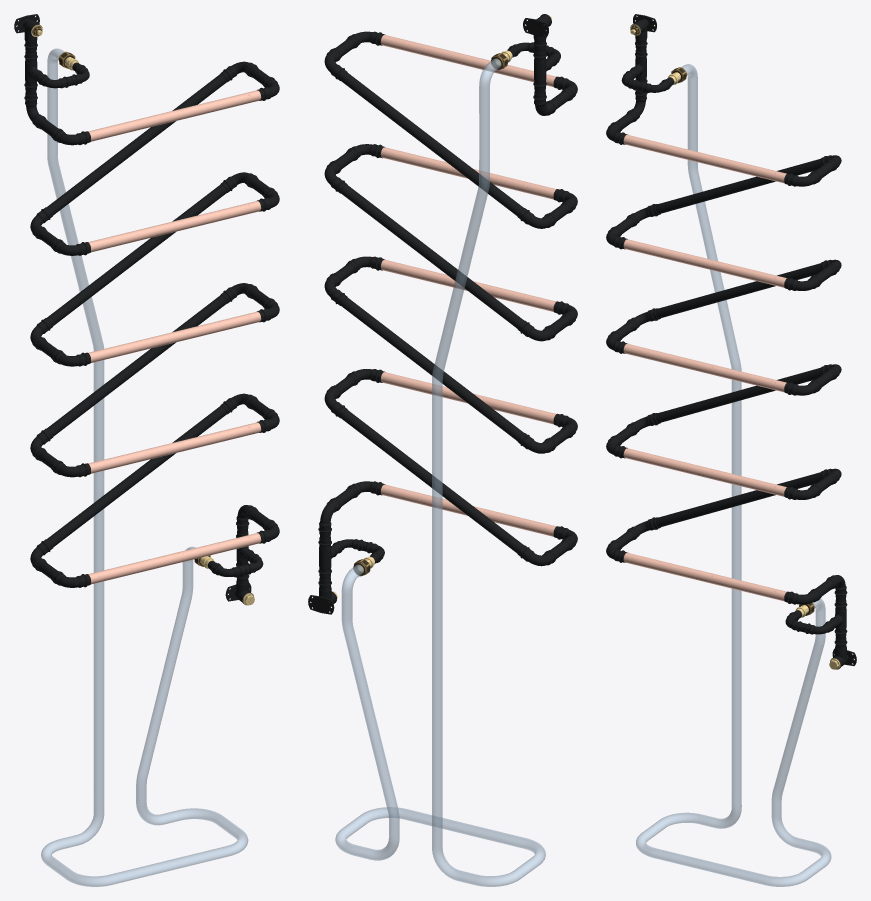
The model's file is el-camin0-rev143b.glb.
3 renders of one model, left to right at view 1: azimuth 30°, elevation 25°; view 2: azimuth 150°, elevation 25°; view 3: azimuth 330°, elevation 25°, orthographic. The views are drawn at different scales.
Visible parts, largest first — view 1: Rib.5, Pad.010, Pad.014, Pad.018, Pad.022, Pad.021, Pad.009, Pad.013, Pad.017, Pad.025; view 2: Rib.5, Pad.014, Pad.010, Pad.018, Pad.022, Pad.009, Pad.017, Pad.021, Pad.013, Pad.025, Pocket.001, Pocket.7 (+2 smaller); view 3: Rib.5, Pad.017, Pad.025, Pad.013, Pad.009, Pad.021, Pad.014, Pad.022, Pad.018, Pad.010.
Part boxes in pixels (x1,y1,x2,y2): Rib.5: [41, 48, 248, 886]; Pad.010: [47, 73, 227, 215]; Pad.014: [47, 184, 227, 325]; Pad.018: [47, 295, 227, 436]; Pad.022: [47, 405, 227, 547]; Pad.021: [88, 422, 261, 473]; Pad.009: [88, 90, 261, 141]; Pad.013: [88, 201, 261, 252]; Pad.017: [88, 311, 261, 362]; Pad.025: [88, 533, 261, 584]; Rib.5: [335, 58, 545, 886]; Pad.014: [340, 185, 523, 328]; Pad.010: [340, 72, 523, 216]; Pad.018: [340, 297, 523, 440]; Pad.022: [340, 409, 523, 553]; Pad.009: [380, 34, 555, 87]; Pad.017: [380, 259, 556, 311]; Pad.021: [380, 372, 555, 424]; Pad.013: [380, 147, 556, 199]; Pad.025: [380, 484, 555, 536]; Pocket.001: [318, 537, 338, 578]; Pocket.7: [533, 50, 553, 90]; Rib.5: [636, 64, 831, 886]; Pad.017: [623, 343, 786, 392]; Pad.025: [623, 552, 786, 601]; Pad.013: [623, 239, 786, 287]; Pad.009: [623, 134, 786, 183]; Pad.021: [623, 448, 786, 496]; Pad.014: [655, 263, 821, 318]; Pad.022: [655, 472, 821, 527]; Pad.018: [655, 367, 820, 422]; Pad.010: [655, 158, 820, 213].
Size of the model in its own units: 0.5598 by 1.93 by 0.243.
Materials: 16 (14 with a texture image).
